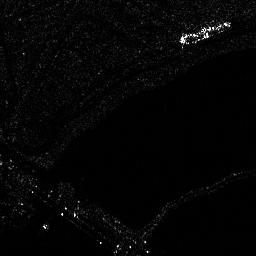ship: (178, 19, 233, 46)
